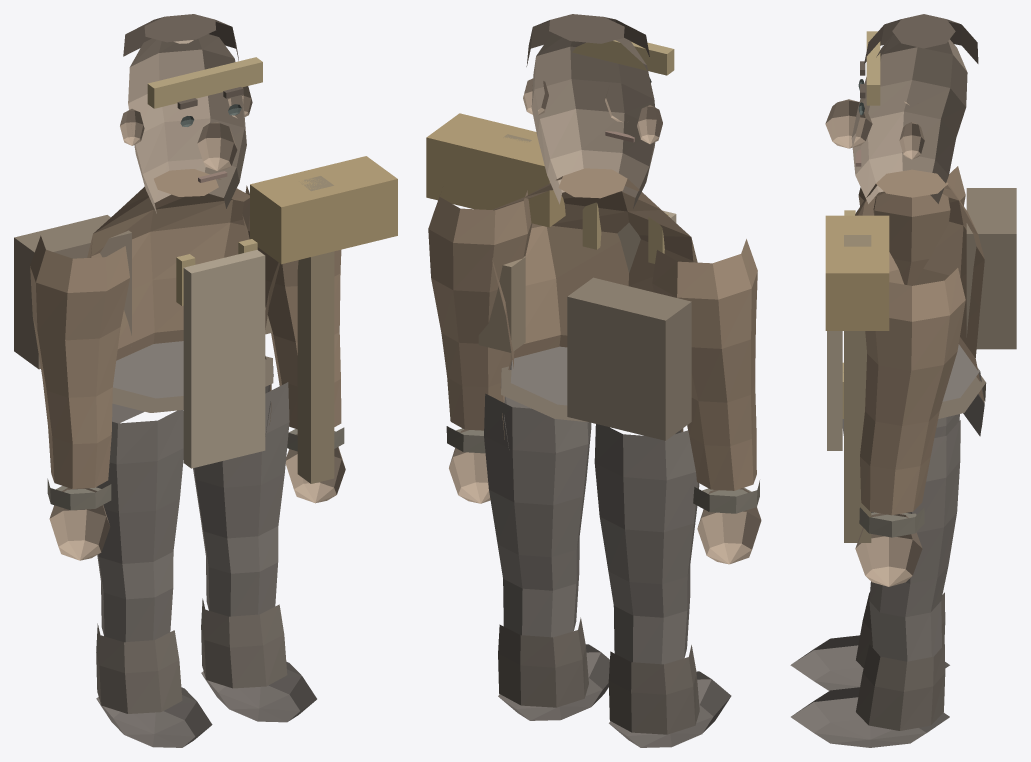
The model's file is bronze_builder_1000_2.glb.
3 renders of one model, left to right at view 1: azimuth 30°, elevation 25°; view 2: azimuth 150°, elevation 25°; view 3: azimuth 270°, elevation 25°, orthographic. The views are drawn at different scales.
Visible parts, largest first — view 1: leftArm_0, body_7, leftLeg_0, body_0, rightLeg_0, rightArm_4, head_0, rightArm_3, leftLeg_1, rightLeg_1, rightArm_0, body_8 (+11 smaller); view 2: leftLeg_0, rightLeg_0, body_8, leftArm_0, body_0, rightArm_0, head_0, rightArm_4, leftLeg_1, rightLeg_1, body_9, leftArm_2 (+13 smaller); view 3: rightArm_0, head_0, rightLeg_0, rightArm_4, body_8, body_0, rightLeg_1, leftArm_0, rightArm_3, rightLeg_2, rightArm_2, leftLeg_2 (+9 smaller).
Boxes of the visible parts, <box> form: leftArm_0: <box>30,235,129,488</box>; body_7: <box>183,250,265,468</box>; leftLeg_0: <box>96,410,183,642</box>; body_0: <box>87,169,279,424</box>; rightLeg_0: <box>193,382,289,616</box>; rightArm_4: <box>250,156,397,264</box>; head_0: <box>128,34,246,213</box>; rightArm_3: <box>297,176,334,483</box>; leftLeg_1: <box>96,623,182,713</box>; rightLeg_1: <box>201,598,287,688</box>; rightArm_0: <box>242,185,341,429</box>; body_8: <box>14,215,131,369</box>; leftLeg_0: <box>594,424,699,664</box>; rightLeg_0: <box>484,393,591,637</box>; body_8: <box>567,277,691,440</box>; leftArm_0: <box>652,239,757,490</box>; body_0: <box>492,168,697,439</box>; rightArm_0: <box>428,190,532,430</box>; head_0: <box>531,34,655,208</box>; rightArm_4: <box>426,113,565,227</box>; leftLeg_1: <box>608,645,699,734</box>; rightLeg_1: <box>498,617,588,707</box>; body_9: <box>478,256,525,352</box>; leftArm_2: <box>697,488,761,564</box>; rightArm_0: <box>860,268,965,515</box>; head_0: <box>851,34,967,203</box>; rightLeg_0: <box>869,420,960,661</box>; rightArm_4: <box>825,215,889,330</box>; body_8: <box>966,188,1016,349</box>; body_0: <box>855,169,984,426</box>; rightLeg_1: <box>856,644,945,730</box>; leftArm_0: <box>858,166,965,285</box>; rightArm_3: <box>844,235,871,542</box>; rightLeg_2: <box>791,687,949,747</box>; rightArm_2: <box>855,513,922,586</box>; leftLeg_2: <box>790,635,949,690</box>.
Size of the model in its own units: 0.822 by 1.66 by 0.498.
